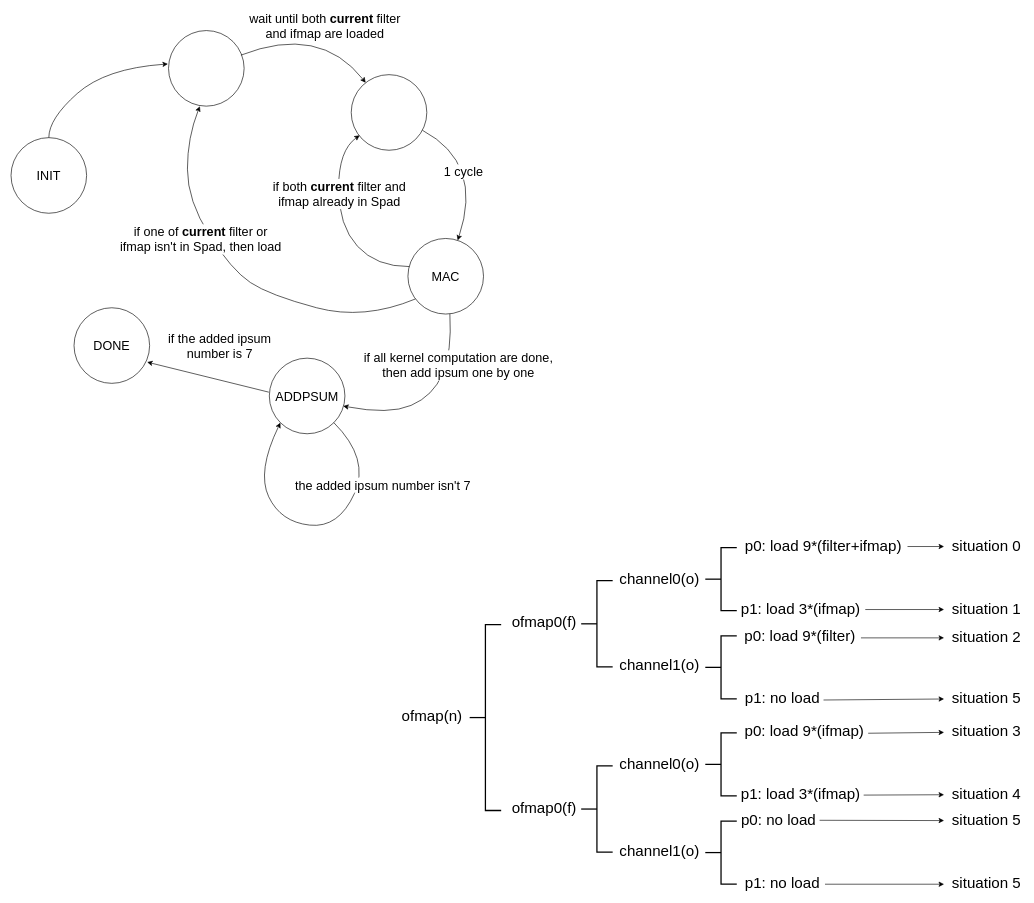
Image size: 1034x903. Some labels were removed from this diagram. Each missing label, with the box of its shape:
LOAD: (168, 30, 244, 106)
READ: (351, 74, 427, 150)
